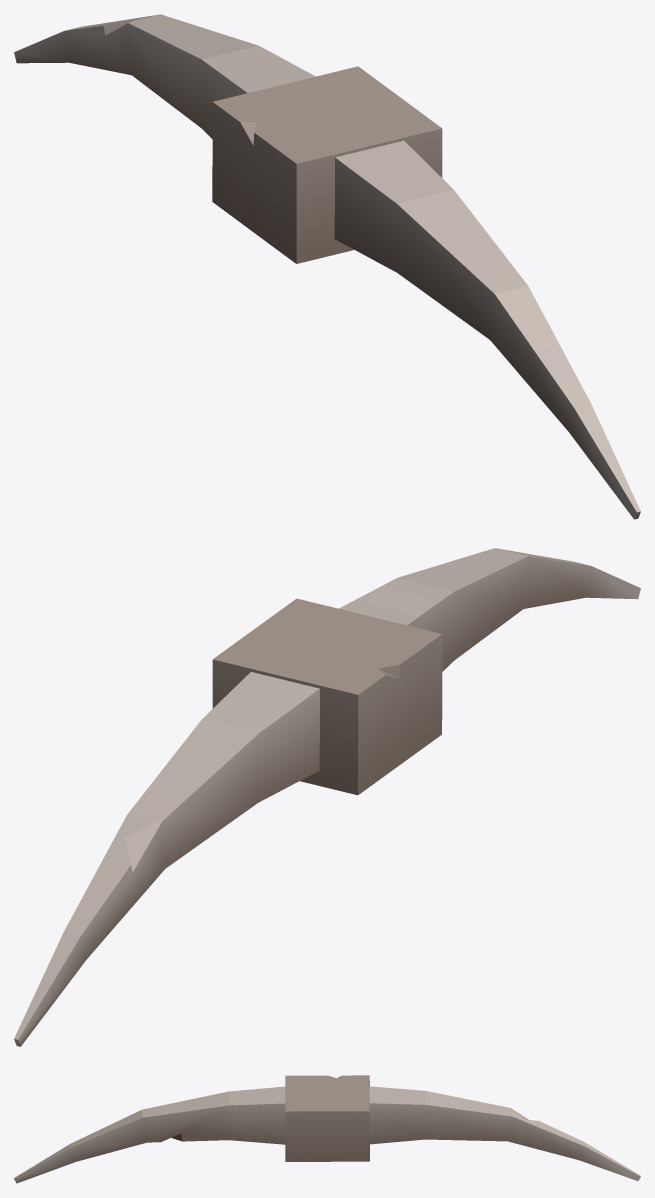
Rendered from pickaxeHead.fbx.
The picture shows the model from 3 angles, top to bottom: view 1: azimuth 30°, elevation 25°; view 2: azimuth 150°, elevation 25°; view 3: azimuth 270°, elevation 25°; orthographic projection. The views are drawn at different scales.
Visible parts, largest first — view 1: Pickaxe.001, Pickaxe, Pickaxe.002; view 2: Pickaxe.002, Pickaxe, Pickaxe.001; view 3: Pickaxe.001, Pickaxe.002, Pickaxe.
Part boxes in pixels (x1=…): Pickaxe.001: x1=334, y1=140, x2=640, y2=519; Pickaxe: x1=212, y1=66, x2=442, y2=263; Pickaxe.002: x1=14, y1=14, x2=315, y2=138; Pickaxe.002: x1=14, y1=672, x2=319, y2=1046; Pickaxe: x1=212, y1=598, x2=442, y2=795; Pickaxe.001: x1=339, y1=548, x2=640, y2=671; Pickaxe.001: x1=14, y1=1086, x2=285, y2=1183; Pickaxe.002: x1=369, y1=1086, x2=640, y2=1180; Pickaxe: x1=285, y1=1075, x2=369, y2=1161.
Size of the model in its own units: 33.92 by 39.69 by 251.
